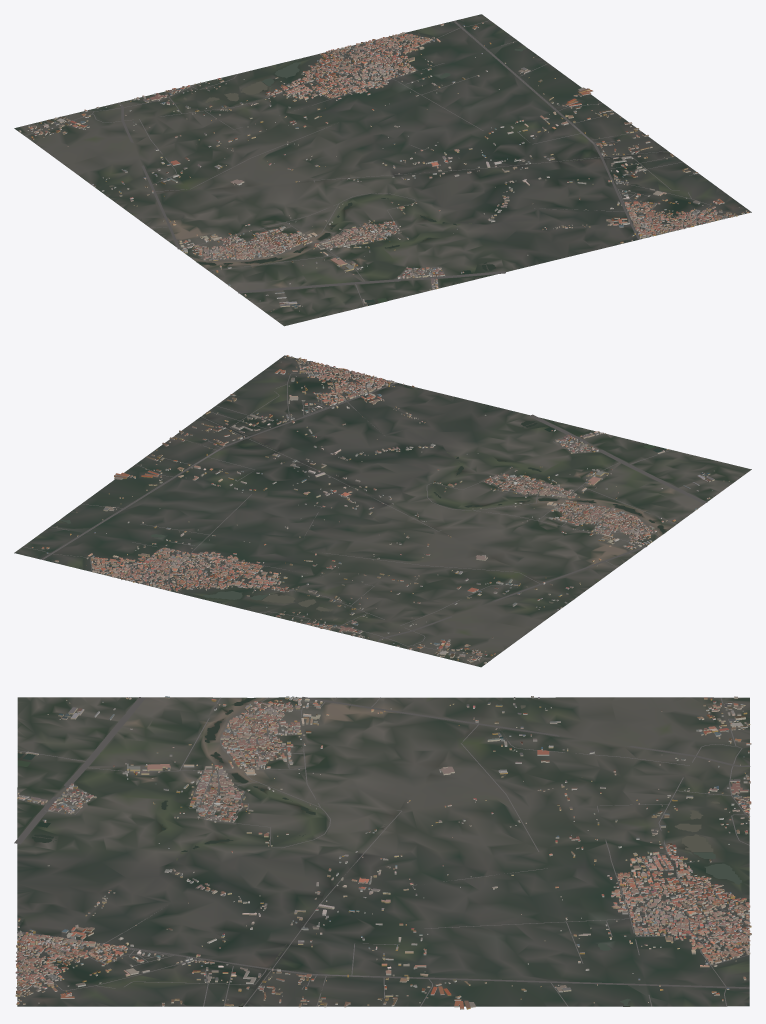
The picture shows the model from 3 angles, top to bottom: view 1: azimuth 30°, elevation 25°; view 2: azimuth 150°, elevation 25°; view 3: azimuth 270°, elevation 25°; orthographic projection. The views are drawn at different scales.
Parts seen in each view (by area): view 1: ground, buildings, roads, water; view 2: ground, buildings, roads, water; view 3: ground, buildings, roads, water.
Boxes of the visible parts, left/top/right/bottom form: ground: left=14, top=14, right=751, bottom=326; buildings: left=19, top=22, right=749, bottom=311; roads: left=25, top=20, right=727, bottom=306; water: left=109, top=47, right=669, bottom=305; ground: left=14, top=355, right=751, bottom=667; buildings: left=31, top=355, right=729, bottom=663; roads: left=22, top=361, right=707, bottom=659; water: left=60, top=415, right=666, bottom=620; ground: left=17, top=697, right=749, bottom=1006; buildings: left=15, top=696, right=751, bottom=1009; roads: left=14, top=697, right=750, bottom=1006; water: left=17, top=697, right=742, bottom=1006.
Size of the model in its own units: 2833 by 22.48 by 2825.
